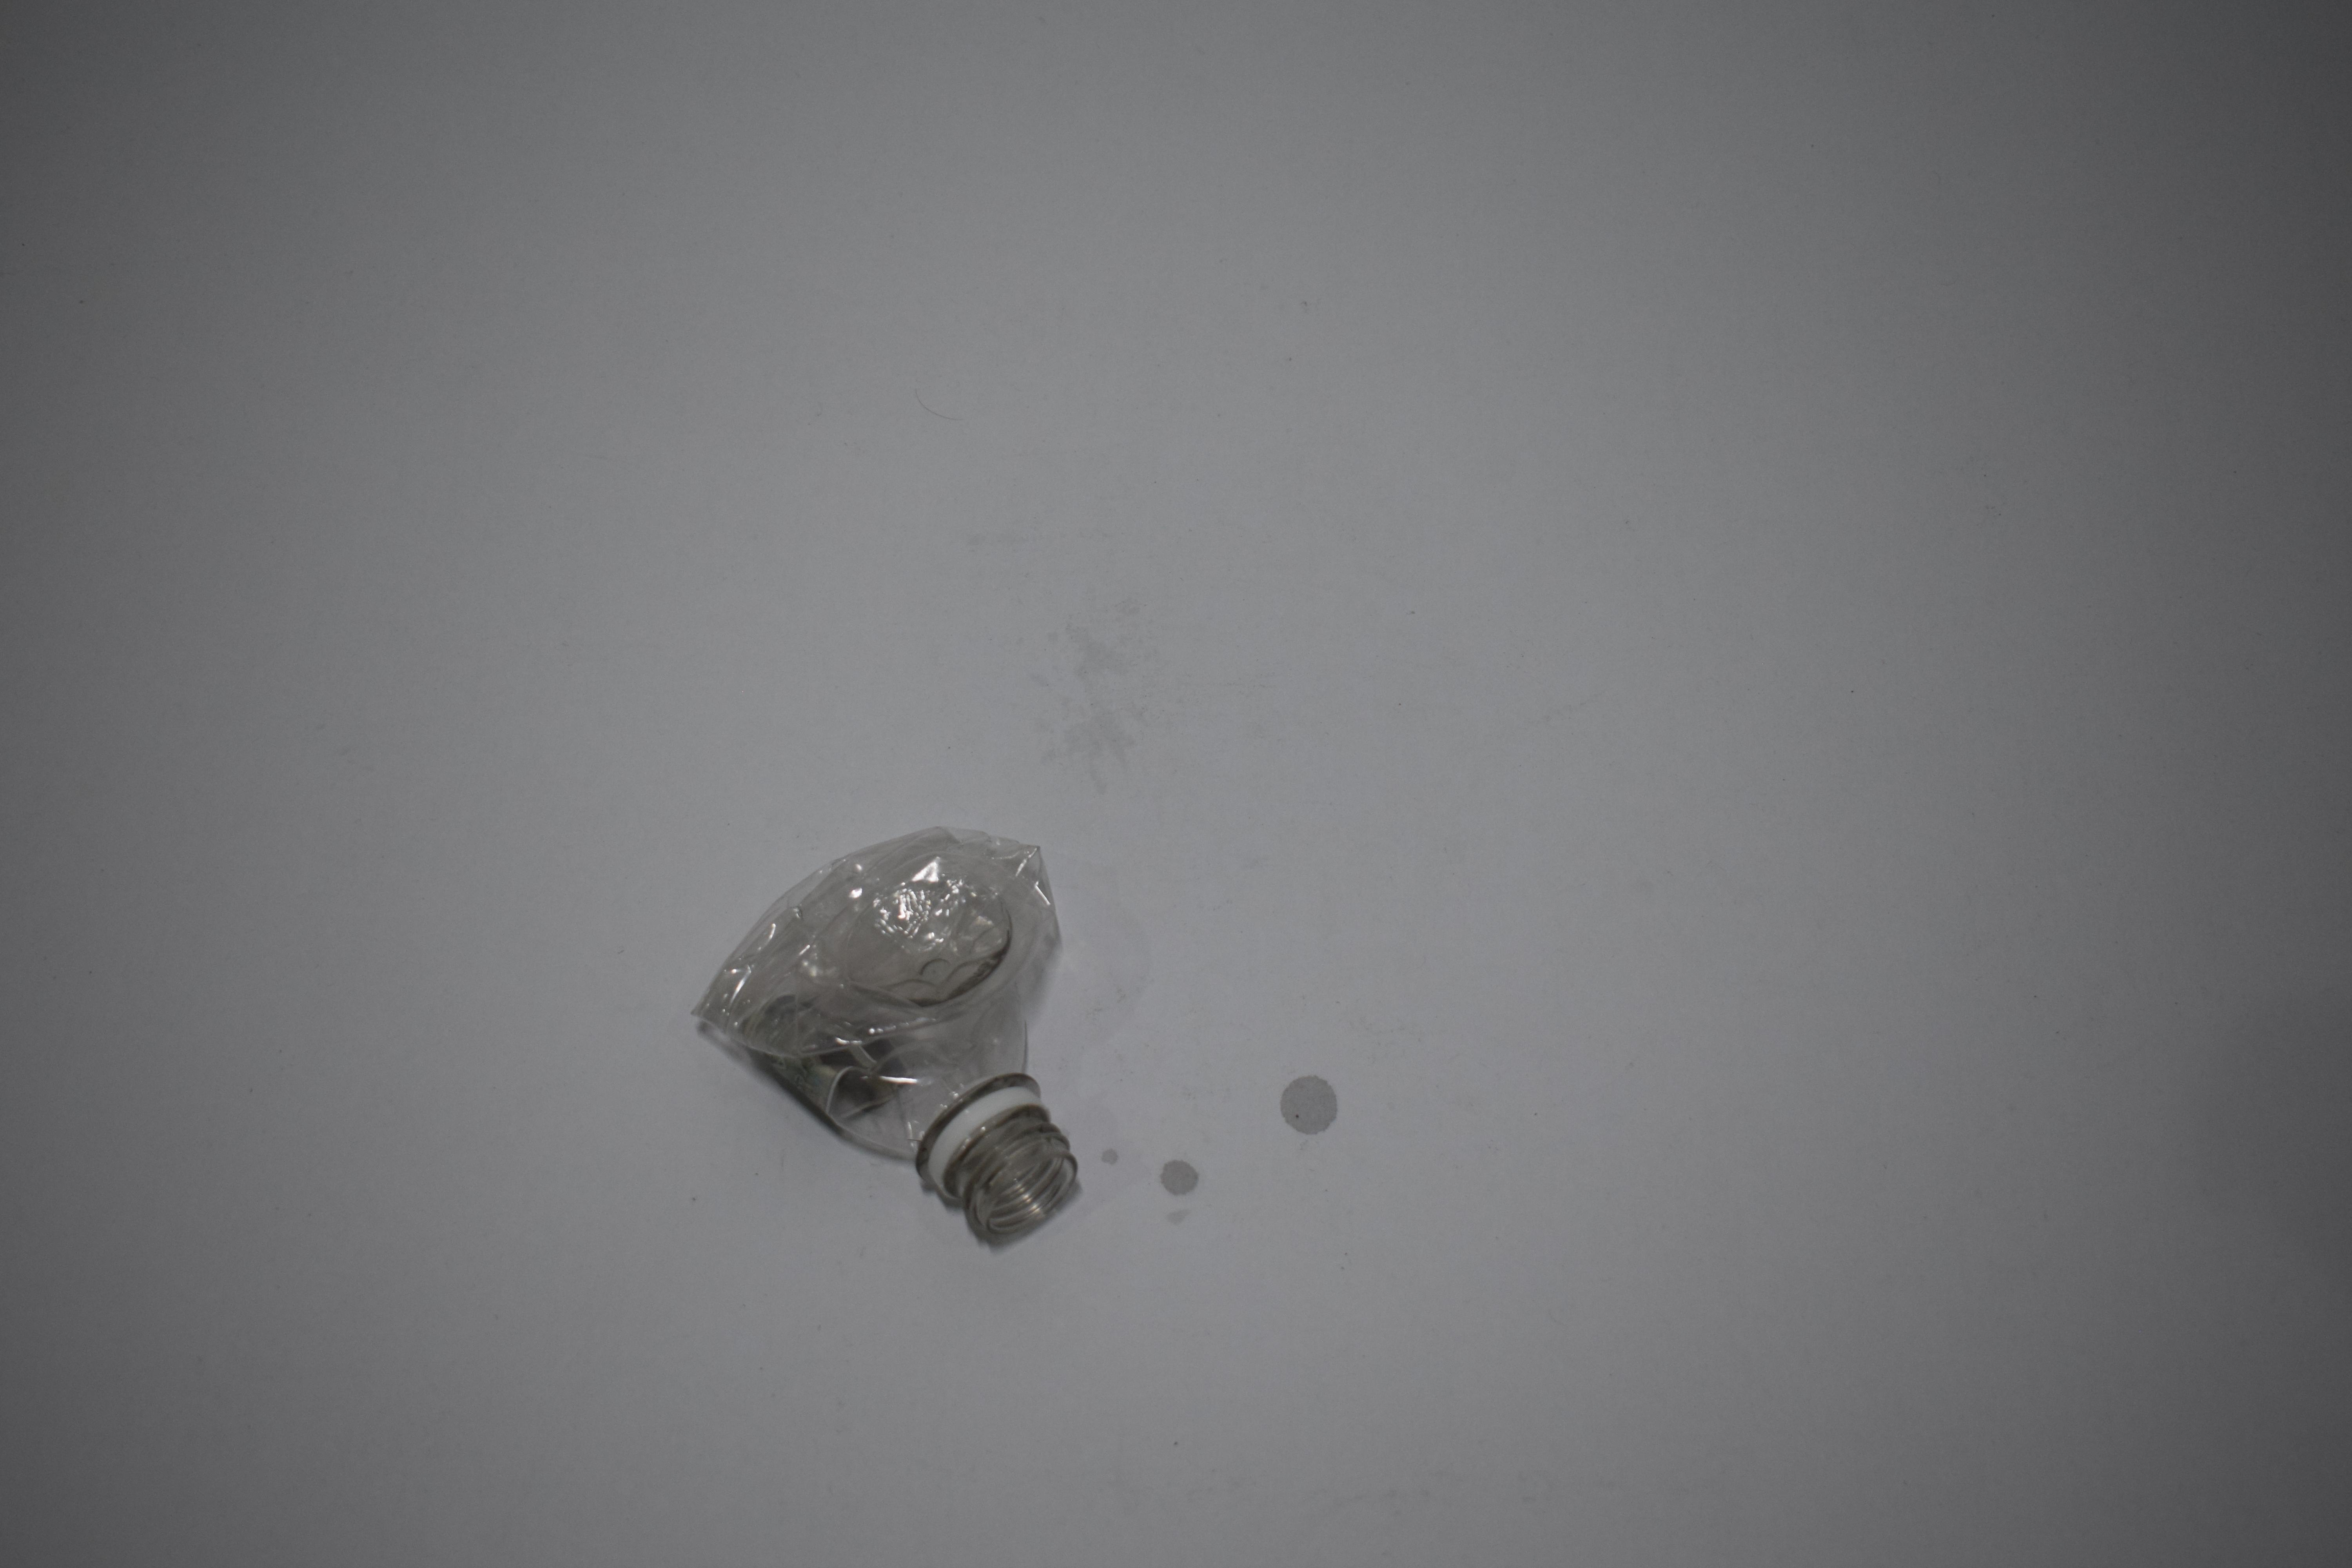bottle: (684, 819, 1088, 1262)
